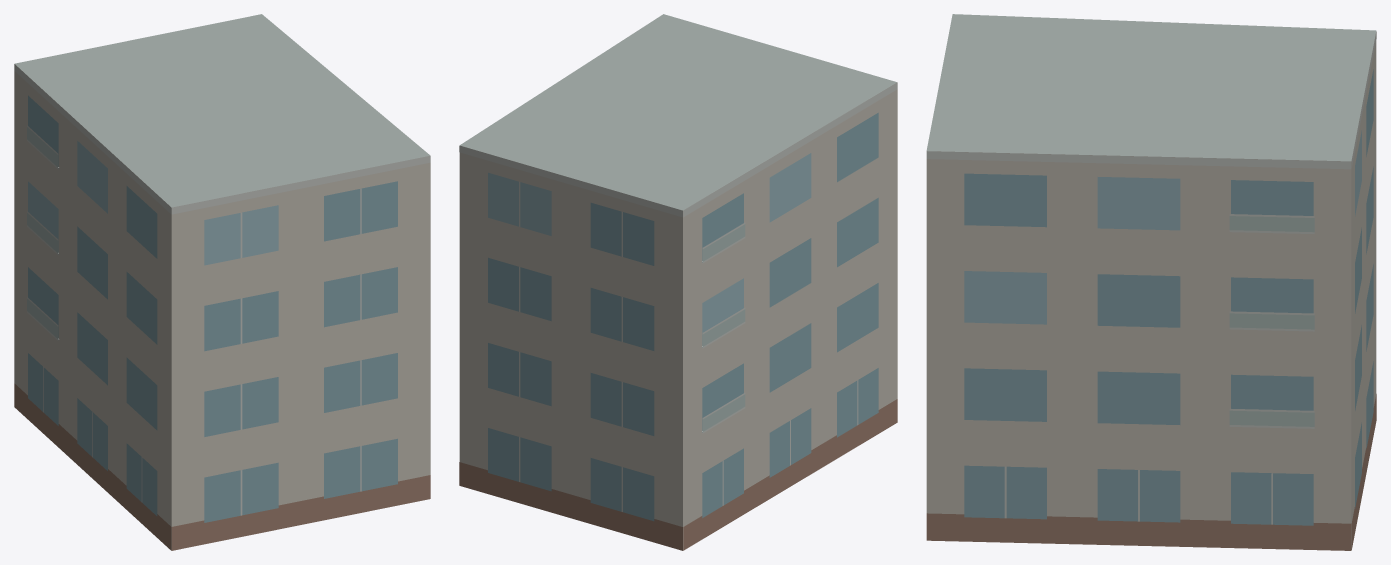
The model's file is survey-upis-32738244.glb.
3 renders of one model, left to right at view 1: azimuth 30°, elevation 25°; view 2: azimuth 150°, elevation 25°; view 3: azimuth 270°, elevation 25°, orthographic. The views are drawn at different scales.
Visible parts, largest first — view 1: survey-upis-32738244.tmp; view 2: survey-upis-32738244.tmp; view 3: survey-upis-32738244.tmp.
Boxes of the visible parts, x1=… form: survey-upis-32738244.tmp: x1=14, y1=14, x2=430, y2=550; survey-upis-32738244.tmp: x1=459, y1=14, x2=897, y2=550; survey-upis-32738244.tmp: x1=926, y1=14, x2=1376, y2=550.
Bounding box in the file's own units: 9.7 × 11.94 × 12.51.
